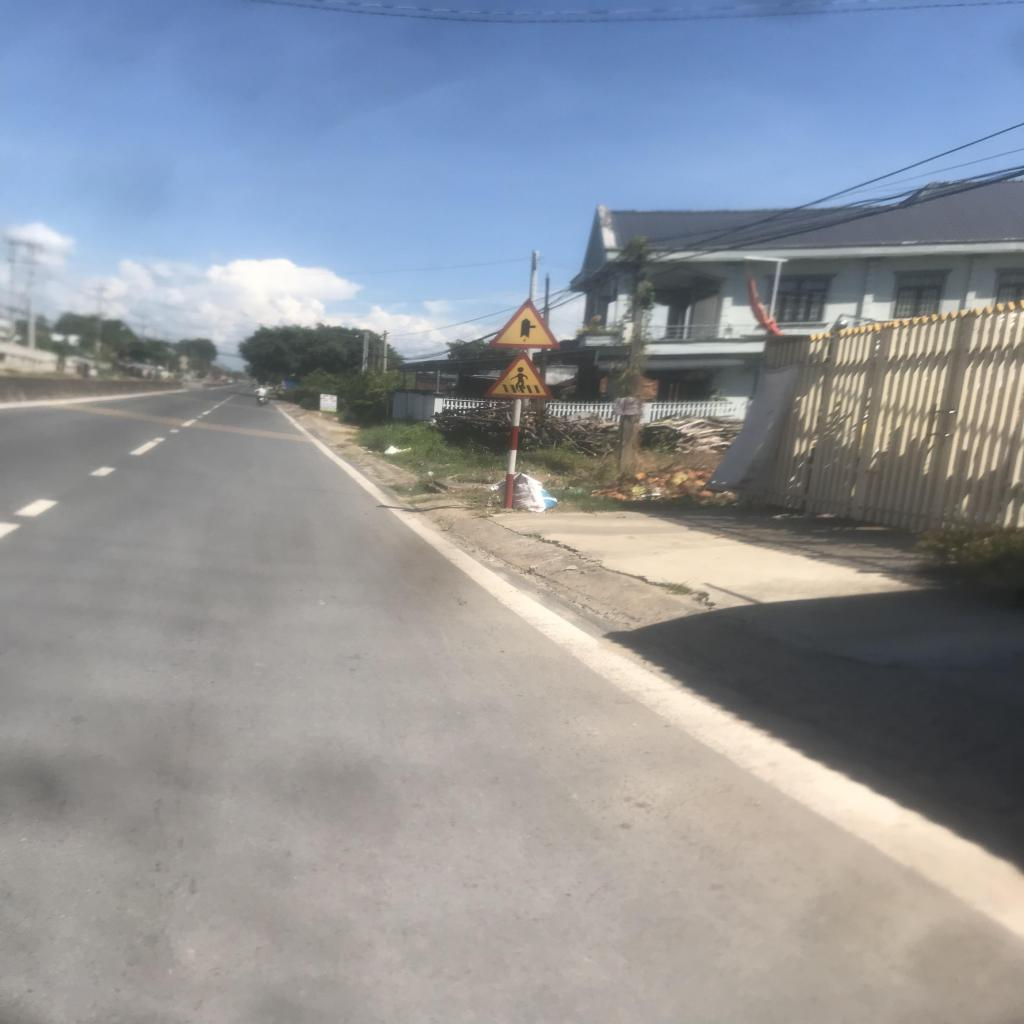chu_y_nguoi_di_bo_cat_ngang: (482, 349, 554, 399)
giao_nhau_voi_duong_khong_uu_tien: (490, 298, 560, 349)
